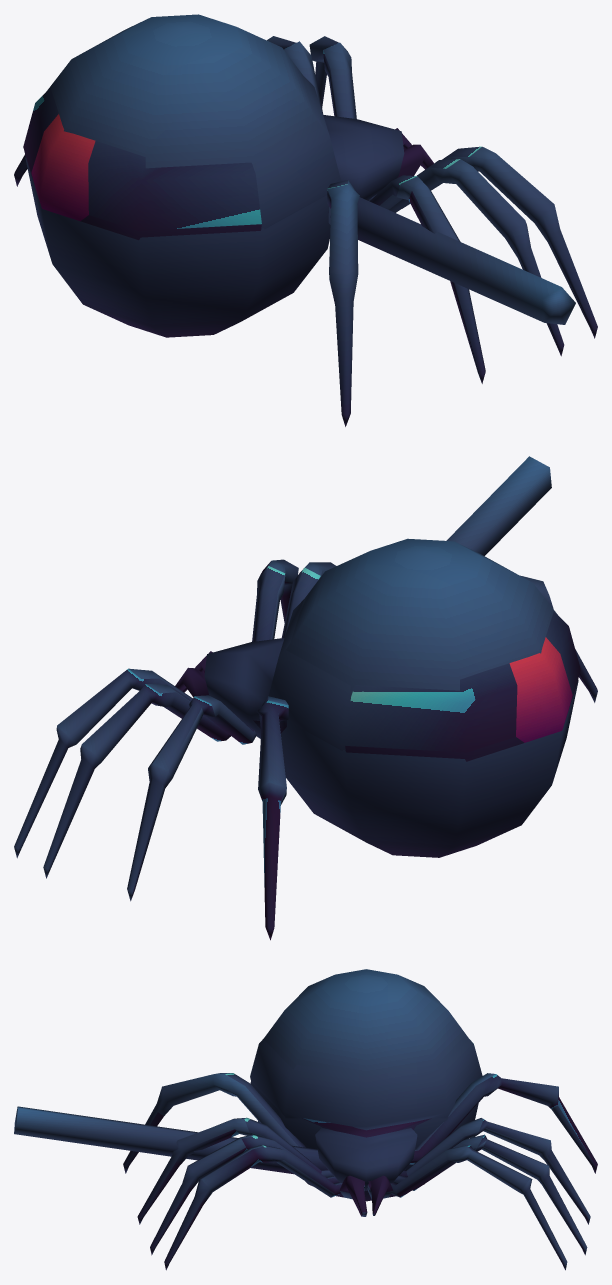
The model's file is SpiderSteps.fbx.
3 views of the same model, one above another, from view 1: azimuth 30°, elevation 25°; view 2: azimuth 150°, elevation 25°; view 3: azimuth 270°, elevation 25° (orthographic). The views are drawn at different scales.
Parts seen in each view (by area): view 1: Spider4, Spider8, Spider10, Spider6, Spider7; view 2: Spider4, Spider8, Spider6, Spider10, Spider7; view 3: Spider6, Spider4, Spider8, Spider10, Spider7.
Part boxes in pixels (x1,y1,x2,y2): Spider4: [25, 14, 330, 337]; Spider8: [14, 36, 583, 411]; Spider10: [14, 41, 597, 426]; Spider6: [256, 76, 575, 324]; Spider7: [252, 121, 364, 229]; Spider4: [281, 538, 578, 857]; Spider8: [14, 561, 597, 940]; Spider6: [204, 456, 551, 750]; Spider10: [25, 559, 597, 926]; Spider7: [243, 644, 354, 751]; Spider6: [14, 1040, 481, 1190]; Spider4: [250, 969, 478, 1201]; Spider8: [124, 1039, 597, 1269]; Spider10: [123, 1042, 596, 1269]; Spider7: [251, 1040, 482, 1145].
Bounding box in the file's own units: 2.97 × 2 × 5.02.
